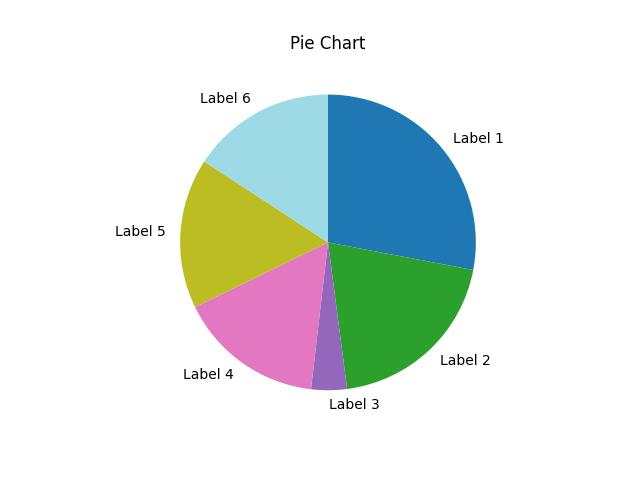sector: (327, 92, 475, 271), (325, 241, 474, 388), (180, 163, 330, 307), (193, 243, 325, 388), (203, 93, 329, 243), (312, 245, 348, 390)
